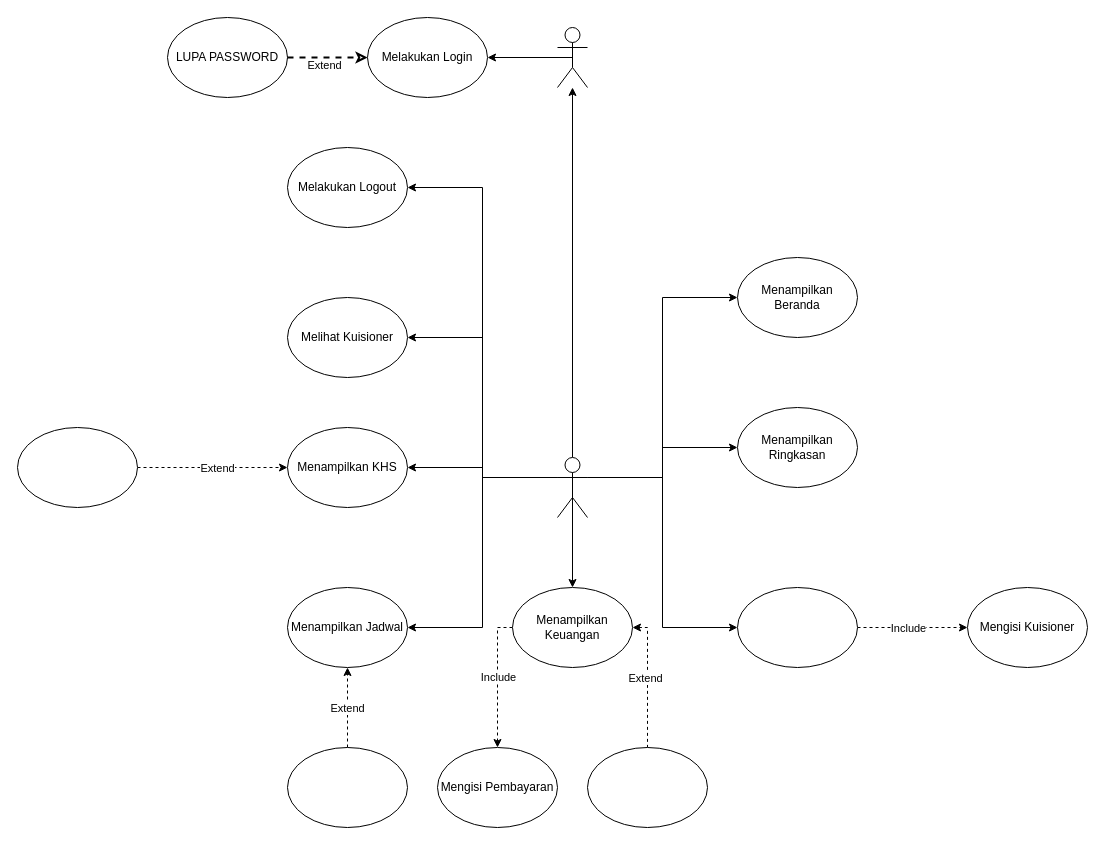
Image size: 1105x845. Some labels were removed from this diagram. The box of each missing label's shape, as (x1, y1, x2, y2) in pixels:
Mahasiswa: (556, 456, 588, 518)
Menampilkan Kuisioner: (736, 586, 858, 668)
Mencetak Jadwal: (286, 746, 408, 828)
Mencetak KHs: (16, 426, 138, 508)
Mencetak Nota: (586, 746, 708, 828)
User: (556, 26, 588, 88)
